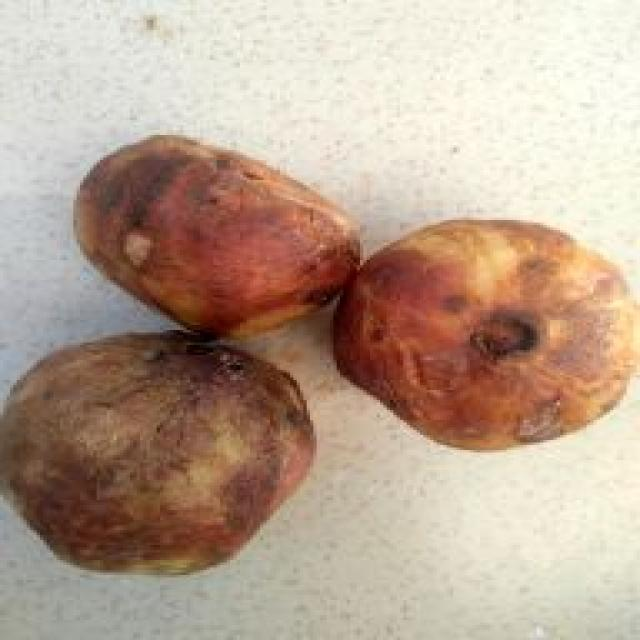Bad_Guava: (5, 331, 313, 572), (335, 220, 638, 448)
